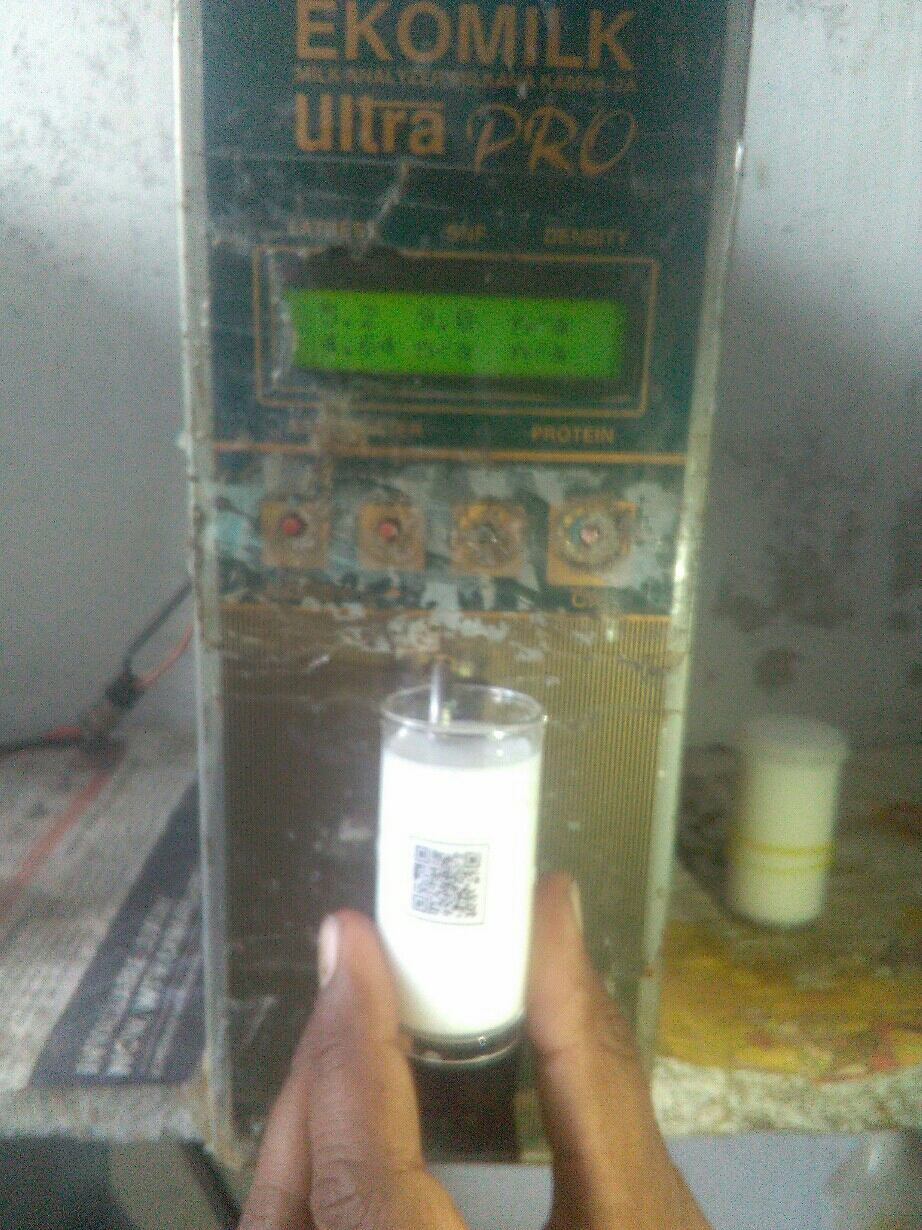lcd: (268, 281, 639, 388)
qr: (407, 841, 486, 922)
